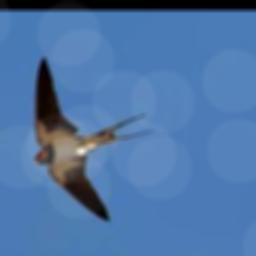Swallow: (32, 56, 153, 219)
